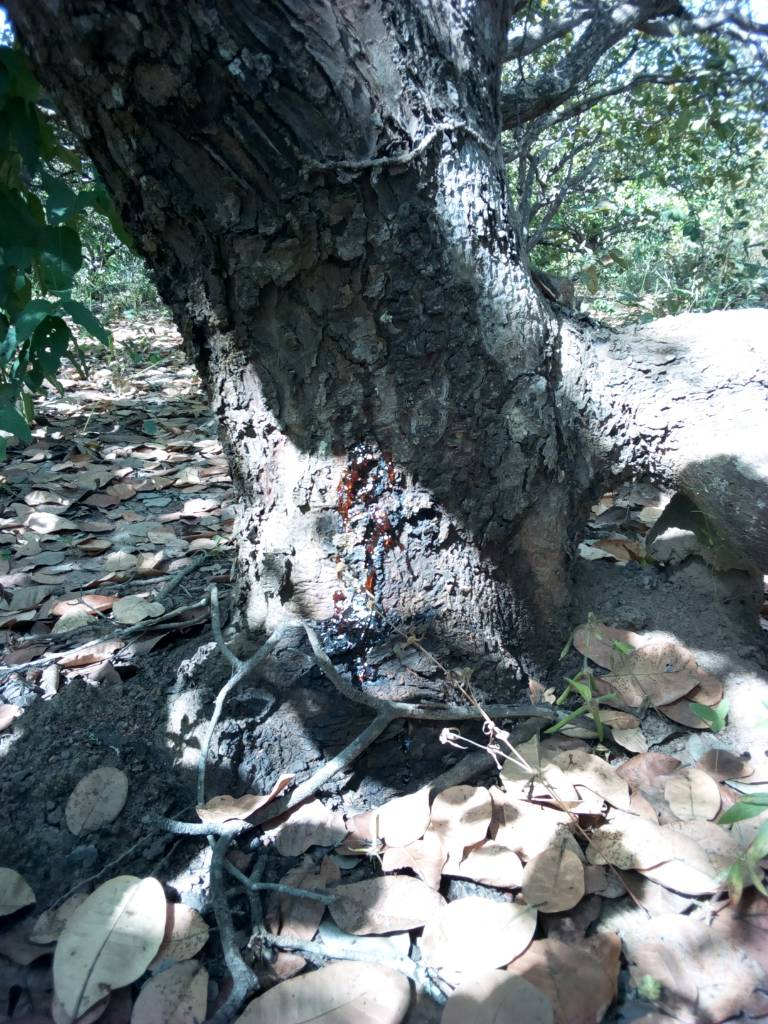Mecocorynus longiceps: (304, 418, 481, 678)
